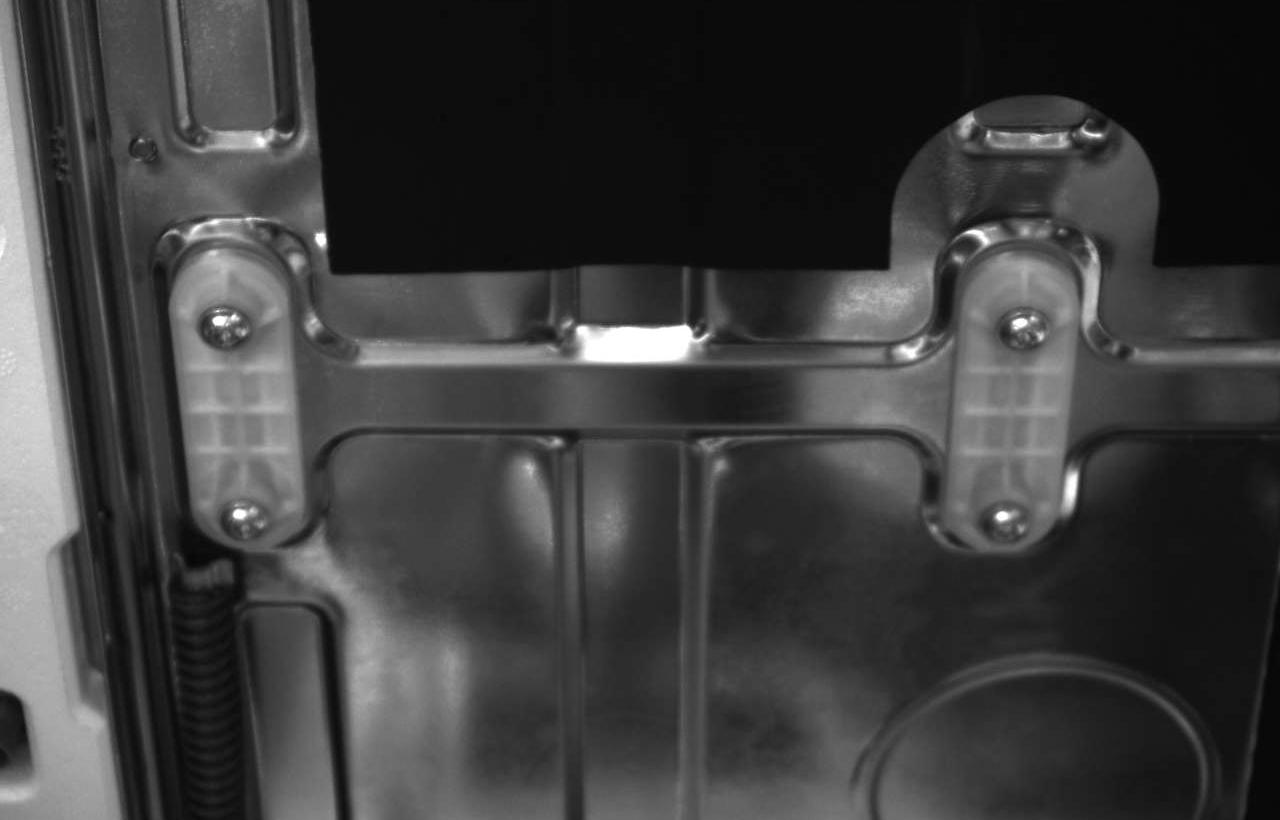vida-ok: (177, 281, 264, 358), (982, 292, 1070, 365), (205, 492, 286, 557), (965, 495, 1040, 553)
